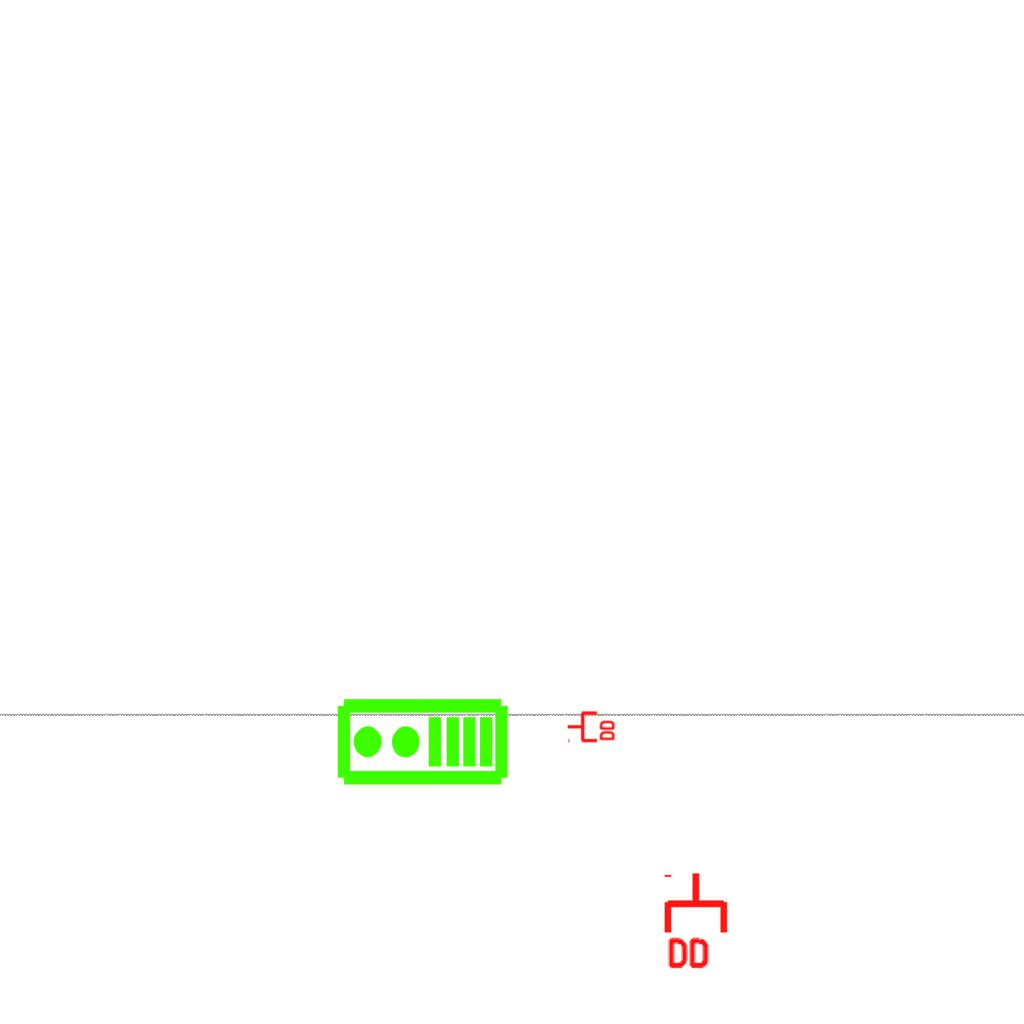Datenanschluss_zweifach: (663, 870, 732, 973), (566, 709, 617, 743)
Gegensprechanlage_mit_Video: (334, 696, 510, 791)
